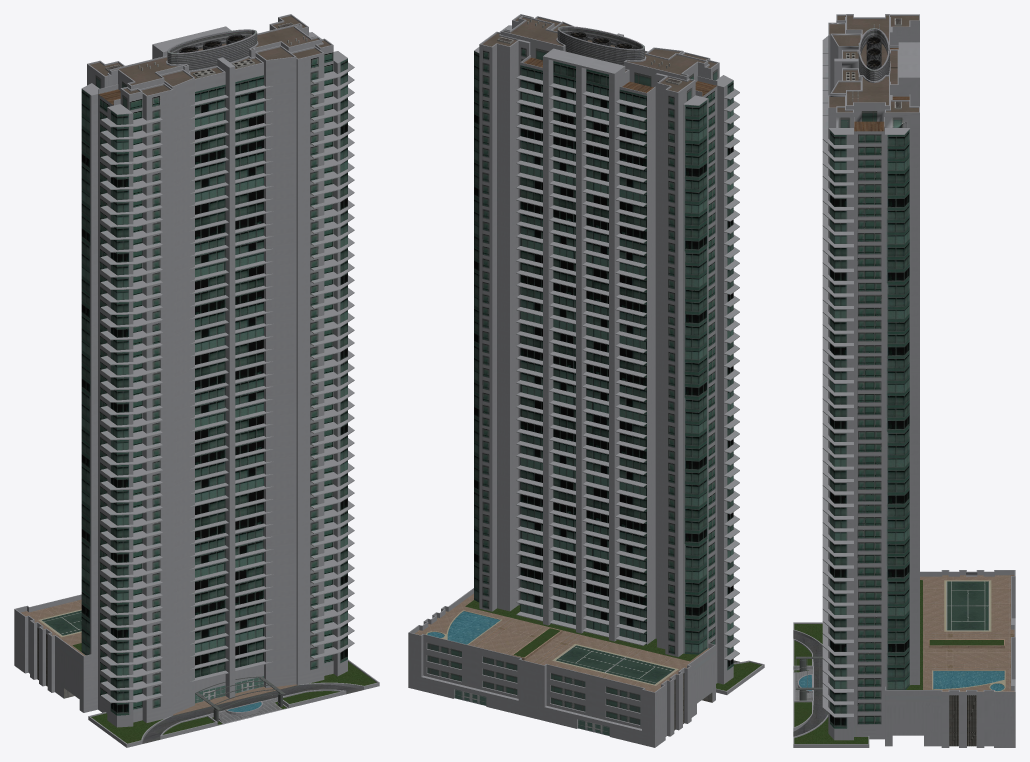
The model's file is slim_residential.glb.
The picture shows the model from 3 angles, left to right: view 1: azimuth 30°, elevation 25°; view 2: azimuth 150°, elevation 25°; view 3: azimuth 270°, elevation 25°; orthographic projection. The views are drawn at different scales.
Parts seen in each view (by area): view 1: bld; view 2: bld; view 3: bld.
Boxes of the visible parts, x1,y1,x2,y2 form: bld: [14, 14, 379, 747]; bld: [408, 14, 764, 747]; bld: [793, 14, 1015, 747].
Size of the model in its own units: 66.66 by 162 by 51.3.
1 material, 1 textured.
